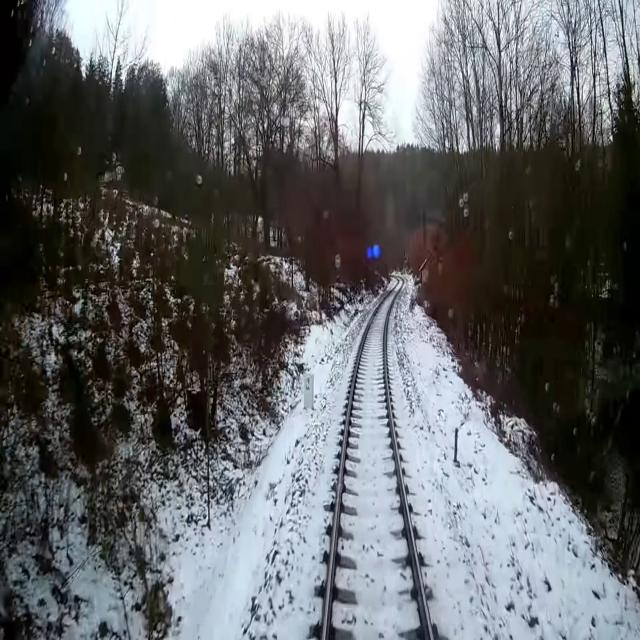rail-track: (327, 279, 429, 639)
